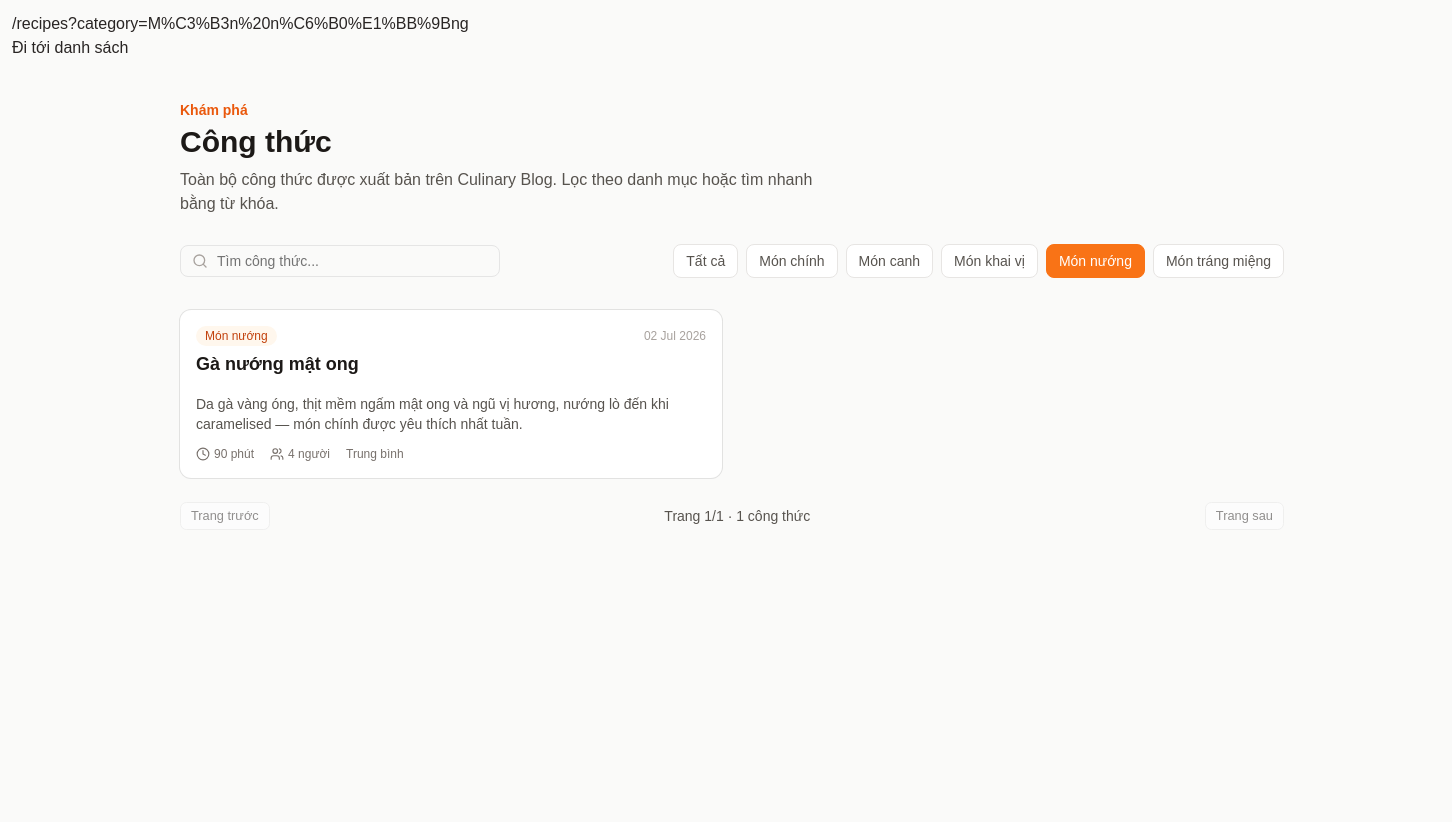
Scenario: RecipesBrowsePage › reads the category from the URL and writes chip selections back to it
Check: the heading "Gà nướng mật ong" is shown, box x1=196 y1=354 x2=359 y2=374
Check: the heading "Phở bò tái nạm" is not shown
Click the button "Món khai vị".
click(990, 261)  # box x1=941 y1=244 x2=1038 y2=278
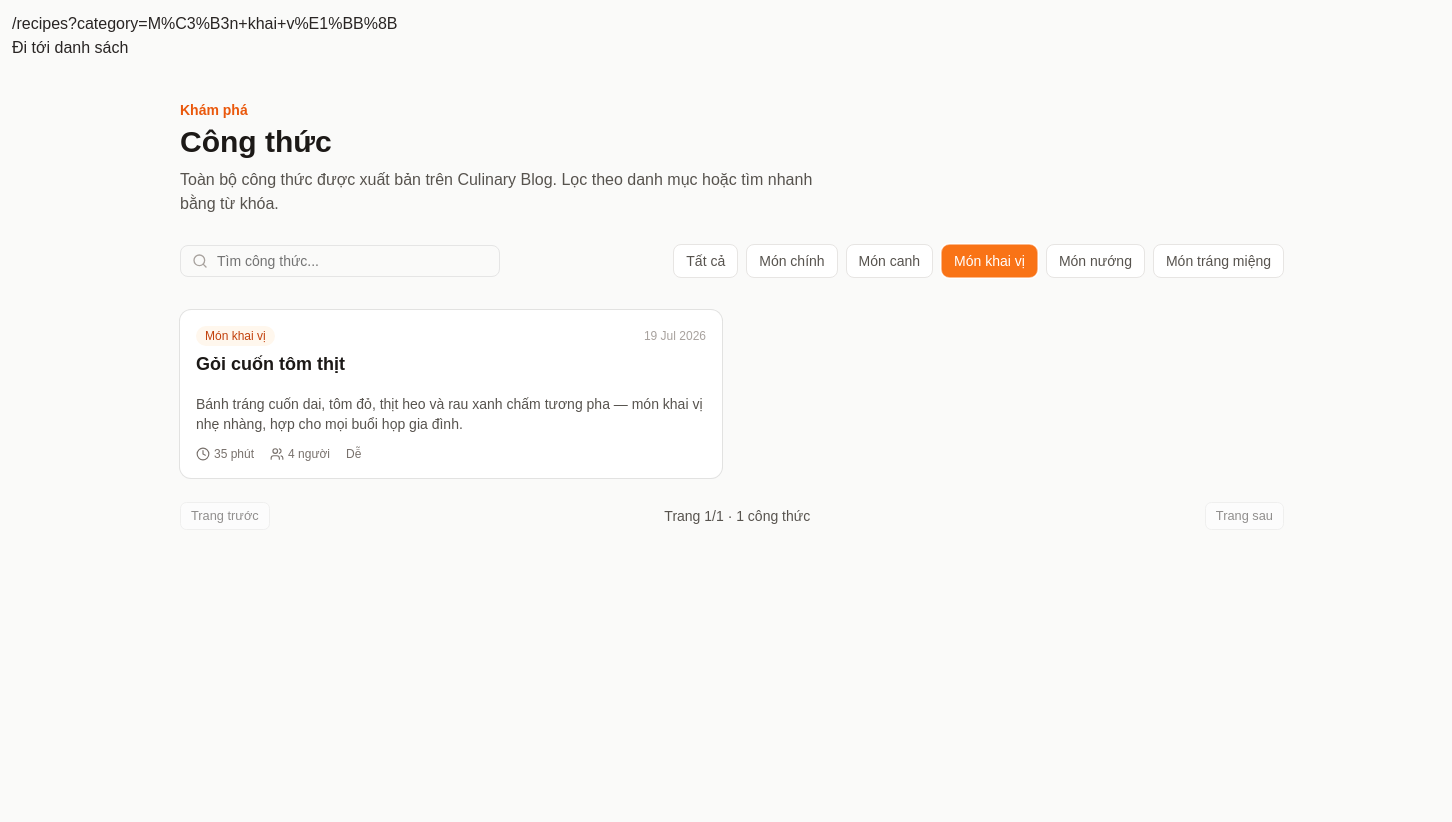
Check: the heading "Gỏi cuốn tôm thịt" is shown, box x1=196 y1=354 x2=345 y2=374
Click the button "Tất cả".
click(706, 261)  # box x1=673 y1=244 x2=738 y2=278
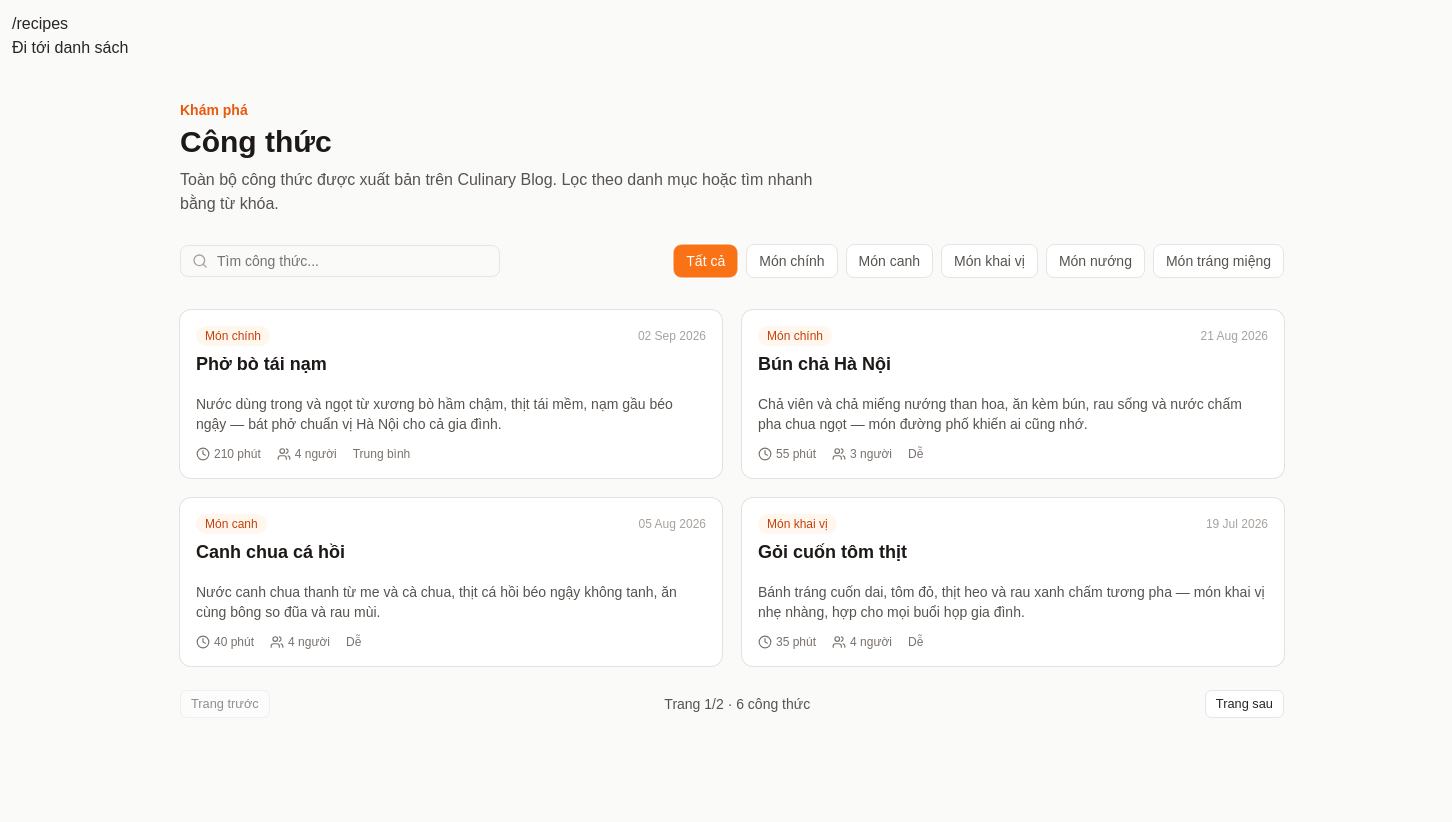
Check: the text with test id "location" reads "/recipes", box x1=12 y1=15 x2=68 y2=32
Check: the heading "Phở bò tái nạm" is shown, box x1=196 y1=354 x2=327 y2=374
